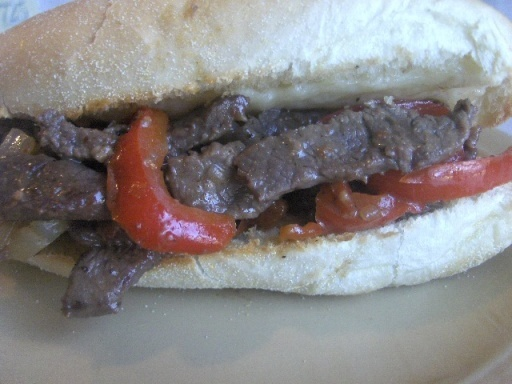background: (0, 0, 410, 192)
